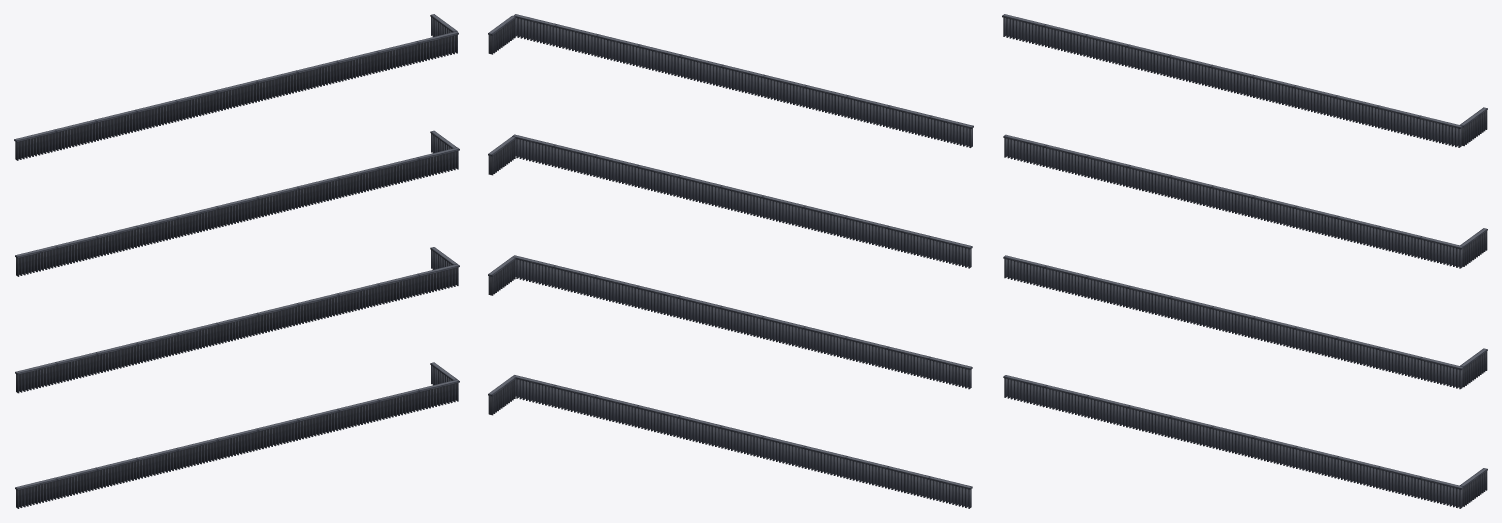
The model's file is ApartFance.fbx.
3 views of the same model, side by side, from view 1: azimuth 30°, elevation 25°; view 2: azimuth 150°, elevation 25°; view 3: azimuth 330°, elevation 25° (orthographic). The views are drawn at different scales.
Parts seen in each view (by area): view 1: pasted__pasted__WallOverWorld6 (×3), pasted__pasted__WallOverWorld11 (×3), pasted__pasted__WallOverWorld3 (×3), pasted__pasted__WallOverWorld9 (×3), pasted__pasted__WallOverWorld8 (×3), pasted__pasted__WallOverWorld10 (×3), pasted__pasted__WallOverWorld7 (×3), pasted__pasted__WallOverWorld12 (×3), pasted__pasted__WallOverWorld4 (×3), pasted__pasted__WallOverWorld2 (×3), pasted__pasted__WallOverWorld5 (×2), pasted__pasted__WallOverWorld29 (+11 smaller); view 2: pasted__pasted__WallOverWorld6 (×3), pasted__pasted__WallOverWorld2 (×3), pasted__pasted__WallOverWorld7 (×3), pasted__pasted__WallOverWorld11 (×3), pasted__pasted__WallOverWorld8 (×3), pasted__pasted__WallOverWorld9 (×3), pasted__pasted__WallOverWorld4 (×3), pasted__pasted__WallOverWorld3 (×3), pasted__pasted__WallOverWorld10 (×3), pasted__pasted__WallOverWorld12 (×3), pasted__pasted__WallOverWorld5 (×3), pasted__pasted__WallOverWorld23 (+14 smaller); view 3: pasted__pasted__WallOverWorld4 (×3), pasted__pasted__WallOverWorld9 (×3), pasted__pasted__WallOverWorld8 (×3), pasted__pasted__WallOverWorld12 (×3), pasted__pasted__WallOverWorld3 (×3), pasted__pasted__WallOverWorld10 (×3), pasted__pasted__WallOverWorld6 (×3), pasted__pasted__WallOverWorld2 (×3), pasted__pasted__WallOverWorld7 (×3), pasted__pasted__WallOverWorld11 (×3), pasted__pasted__WallOverWorld5 (×3), pasted__pasted__WallOverWorld28 (+14 smaller).
Part boxes in pixels (left/top/right/bottom): pasted__pasted__WallOverWorld6 (×3): left=14, top=129, right=57, bottom=393; pasted__pasted__WallOverWorld11 (×3): left=377, top=41, right=419, bottom=304; pasted__pasted__WallOverWorld3 (×3): left=175, top=90, right=218, bottom=354; pasted__pasted__WallOverWorld9 (×3): left=336, top=51, right=379, bottom=314; pasted__pasted__WallOverWorld8 (×3): left=215, top=80, right=258, bottom=344; pasted__pasted__WallOverWorld10 (×3): left=296, top=61, right=339, bottom=324; pasted__pasted__WallOverWorld7 (×3): left=135, top=100, right=178, bottom=363; pasted__pasted__WallOverWorld12 (×3): left=417, top=31, right=459, bottom=295; pasted__pasted__WallOverWorld4 (×3): left=95, top=110, right=137, bottom=373; pasted__pasted__WallOverWorld2 (×3): left=256, top=70, right=298, bottom=334; pasted__pasted__WallOverWorld5 (×2): left=54, top=119, right=97, bottom=266; pasted__pasted__WallOverWorld29: left=15, top=477, right=57, bottom=508; pasted__pasted__WallOverWorld6 (×3): left=928, top=115, right=973, bottom=389; pasted__pasted__WallOverWorld2 (×3): left=678, top=54, right=723, bottom=328; pasted__pasted__WallOverWorld7 (×3): left=803, top=85, right=848, bottom=358; pasted__pasted__WallOverWorld11 (×3): left=553, top=24, right=598, bottom=297; pasted__pasted__WallOverWorld8 (×3): left=720, top=65, right=764, bottom=338; pasted__pasted__WallOverWorld9 (×3): left=595, top=34, right=640, bottom=307; pasted__pasted__WallOverWorld4 (×3): left=845, top=95, right=890, bottom=368; pasted__pasted__WallOverWorld3 (×3): left=762, top=75, right=806, bottom=348; pasted__pasted__WallOverWorld10 (×3): left=637, top=44, right=681, bottom=317; pasted__pasted__WallOverWorld12 (×3): left=512, top=14, right=556, bottom=287; pasted__pasted__WallOverWorld5 (×3): left=488, top=15, right=931, bottom=258; pasted__pasted__WallOverWorld23: left=553, top=385, right=597, bottom=417; pasted__pasted__WallOverWorld4 (×3): left=1085, top=34, right=1130, bottom=307; pasted__pasted__WallOverWorld9 (×3): left=1335, top=95, right=1379, bottom=368; pasted__pasted__WallOverWorld8 (×3): left=1210, top=65, right=1255, bottom=338; pasted__pasted__WallOverWorld12 (×3): left=1418, top=115, right=1463, bottom=389; pasted__pasted__WallOverWorld3 (×3): left=1168, top=54, right=1213, bottom=328; pasted__pasted__WallOverWorld10 (×3): left=1293, top=85, right=1338, bottom=358; pasted__pasted__WallOverWorld6 (×3): left=1002, top=14, right=1046, bottom=287; pasted__pasted__WallOverWorld2 (×3): left=1252, top=75, right=1296, bottom=348; pasted__pasted__WallOverWorld7 (×3): left=1127, top=44, right=1171, bottom=318; pasted__pasted__WallOverWorld11 (×3): left=1377, top=105, right=1421, bottom=379; pasted__pasted__WallOverWorld5 (×3): left=1043, top=24, right=1487, bottom=177; pasted__pasted__WallOverWorld28: left=1211, top=425, right=1255, bottom=457.
Size of the model in its own units: 1298 by 1030 by 130.
